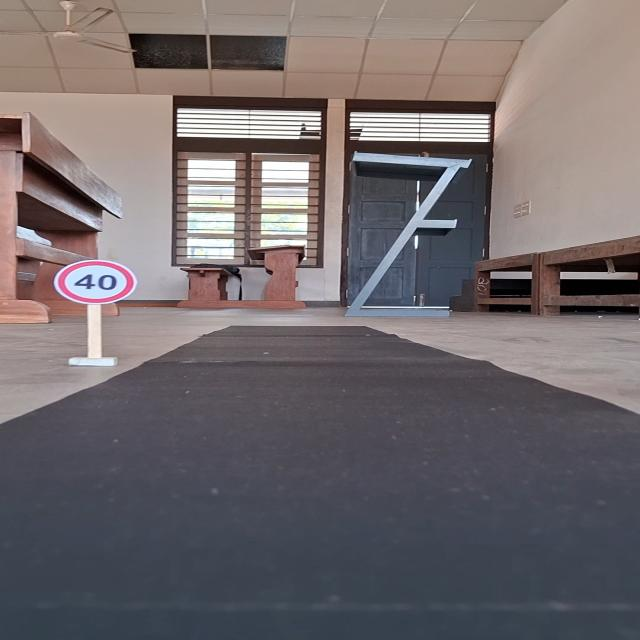Speed40: (51, 258, 142, 308)
